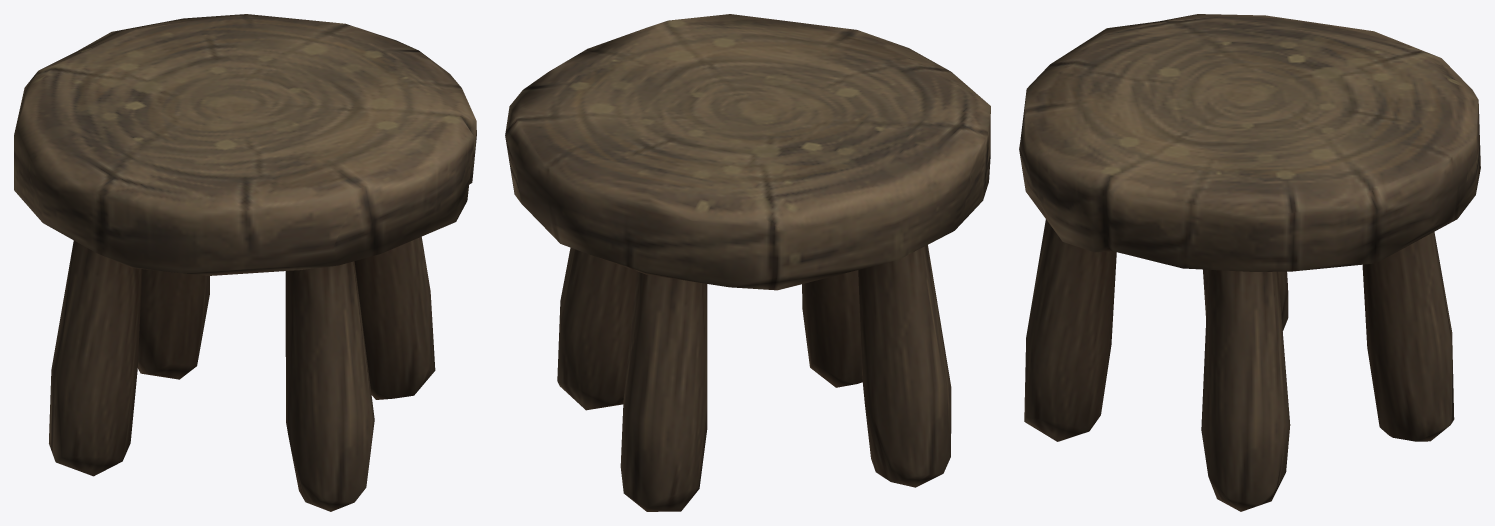
The model's file is MSH_fwOF_Camp_Chair.fbx.
3 renders of one model, left to right at view 1: azimuth 30°, elevation 25°; view 2: azimuth 150°, elevation 25°; view 3: azimuth 270°, elevation 25°, orthographic. The views are drawn at different scales.
Visible parts, largest first — view 1: MSH_fwOF_Camp_Chair_LOD0; view 2: MSH_fwOF_Camp_Chair_LOD0; view 3: MSH_fwOF_Camp_Chair_LOD0.
Boxes of the visible parts, x1,y1,x2,y2 form: MSH_fwOF_Camp_Chair_LOD0: (14,14,476,511); MSH_fwOF_Camp_Chair_LOD0: (505,14,990,511); MSH_fwOF_Camp_Chair_LOD0: (1019,14,1480,511).
Size of what is drawn, in the model's own units: 0.4634 by 0.3662 by 0.4543.
